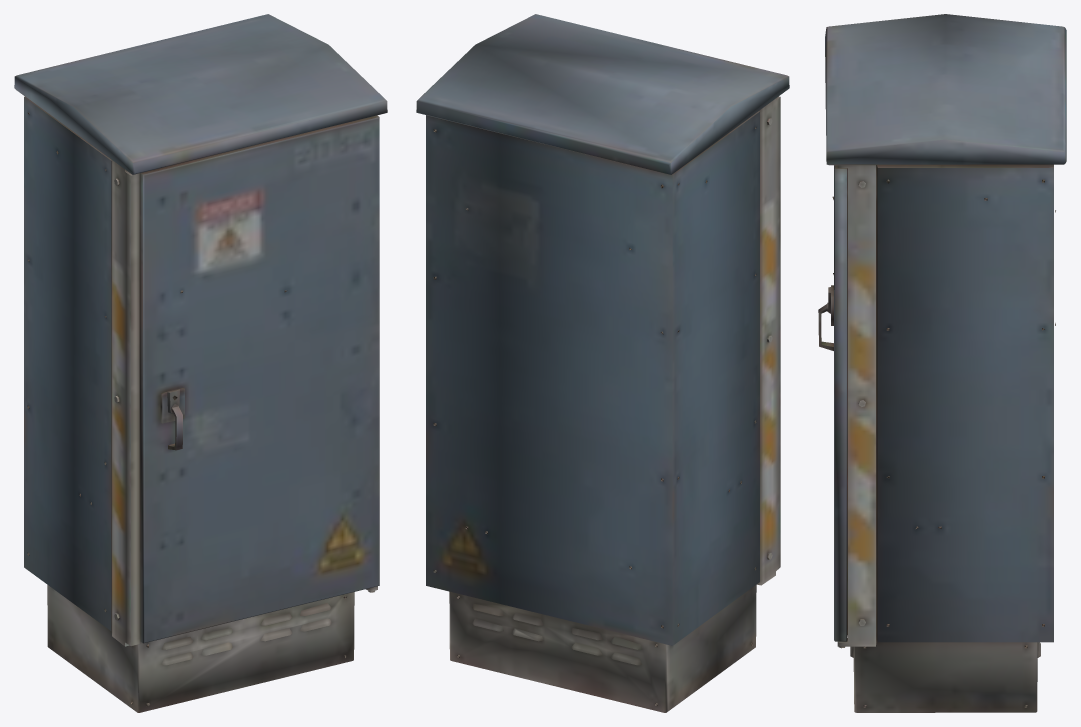
The model's file is utility_box_01.glb.
The picture shows the model from 3 angles, left to right: view 1: azimuth 30°, elevation 25°; view 2: azimuth 150°, elevation 25°; view 3: azimuth 270°, elevation 25°; orthographic projection.
Parts seen in each view (by area): view 1: utility_box_01_box; view 2: utility_box_01_box; view 3: utility_box_01_box.
Part boxes in pixels (x1=…): utility_box_01_box: x1=14, y1=14, x2=387, y2=712; utility_box_01_box: x1=416, y1=14, x2=789, y2=712; utility_box_01_box: x1=818, y1=14, x2=1066, y2=712.
Size of the model in its own units: 0.5164 by 1.12 by 0.4312.
1 material, 1 textured.
